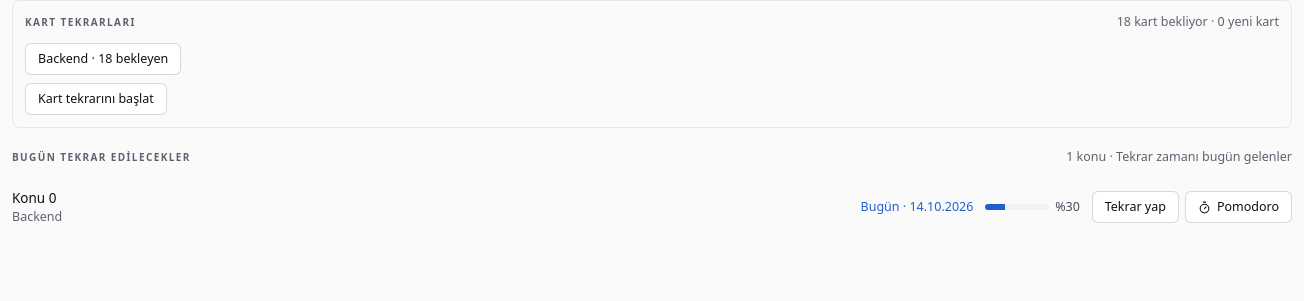
topic completion refreshes topics; card mutation refreshes cards independently
This screenshot has width=1304, height=301.
Click the button "Tekrar yap": (1135, 207) [1092, 191, 1179, 223]
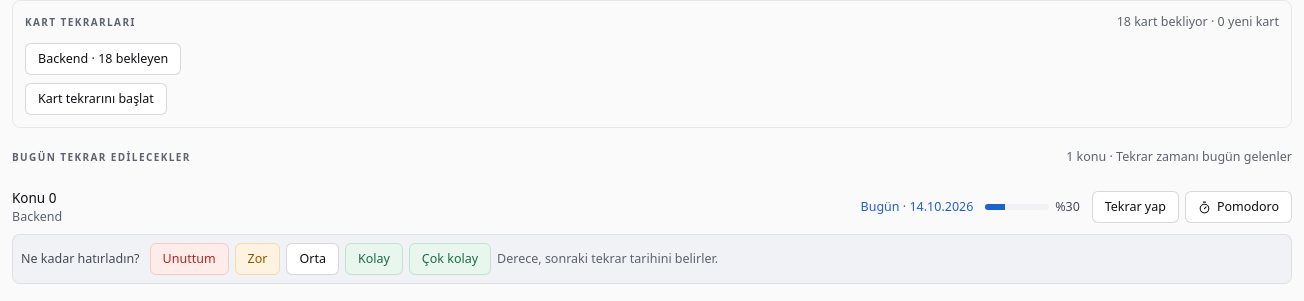
Click the button "Kolay": (374, 259) [345, 243, 403, 275]
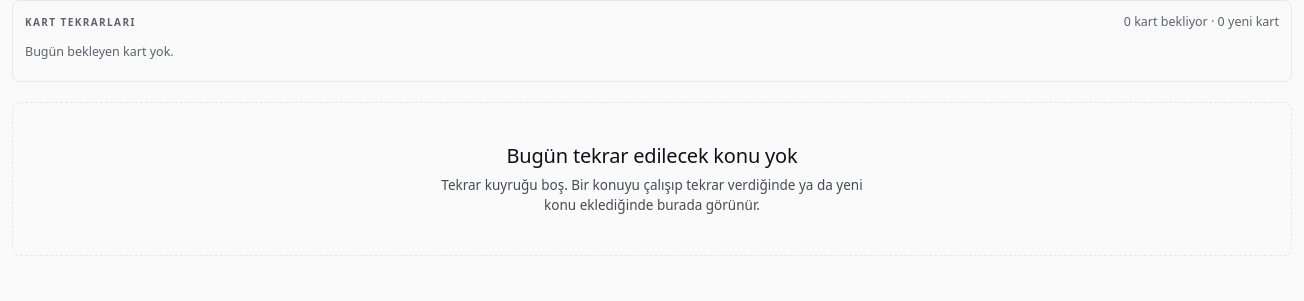
Check: the button "Konu 0" is gone
Check: the text "0 kart bekliyor · 0 yeni kart" is shown, box [1124, 13, 1279, 31]
